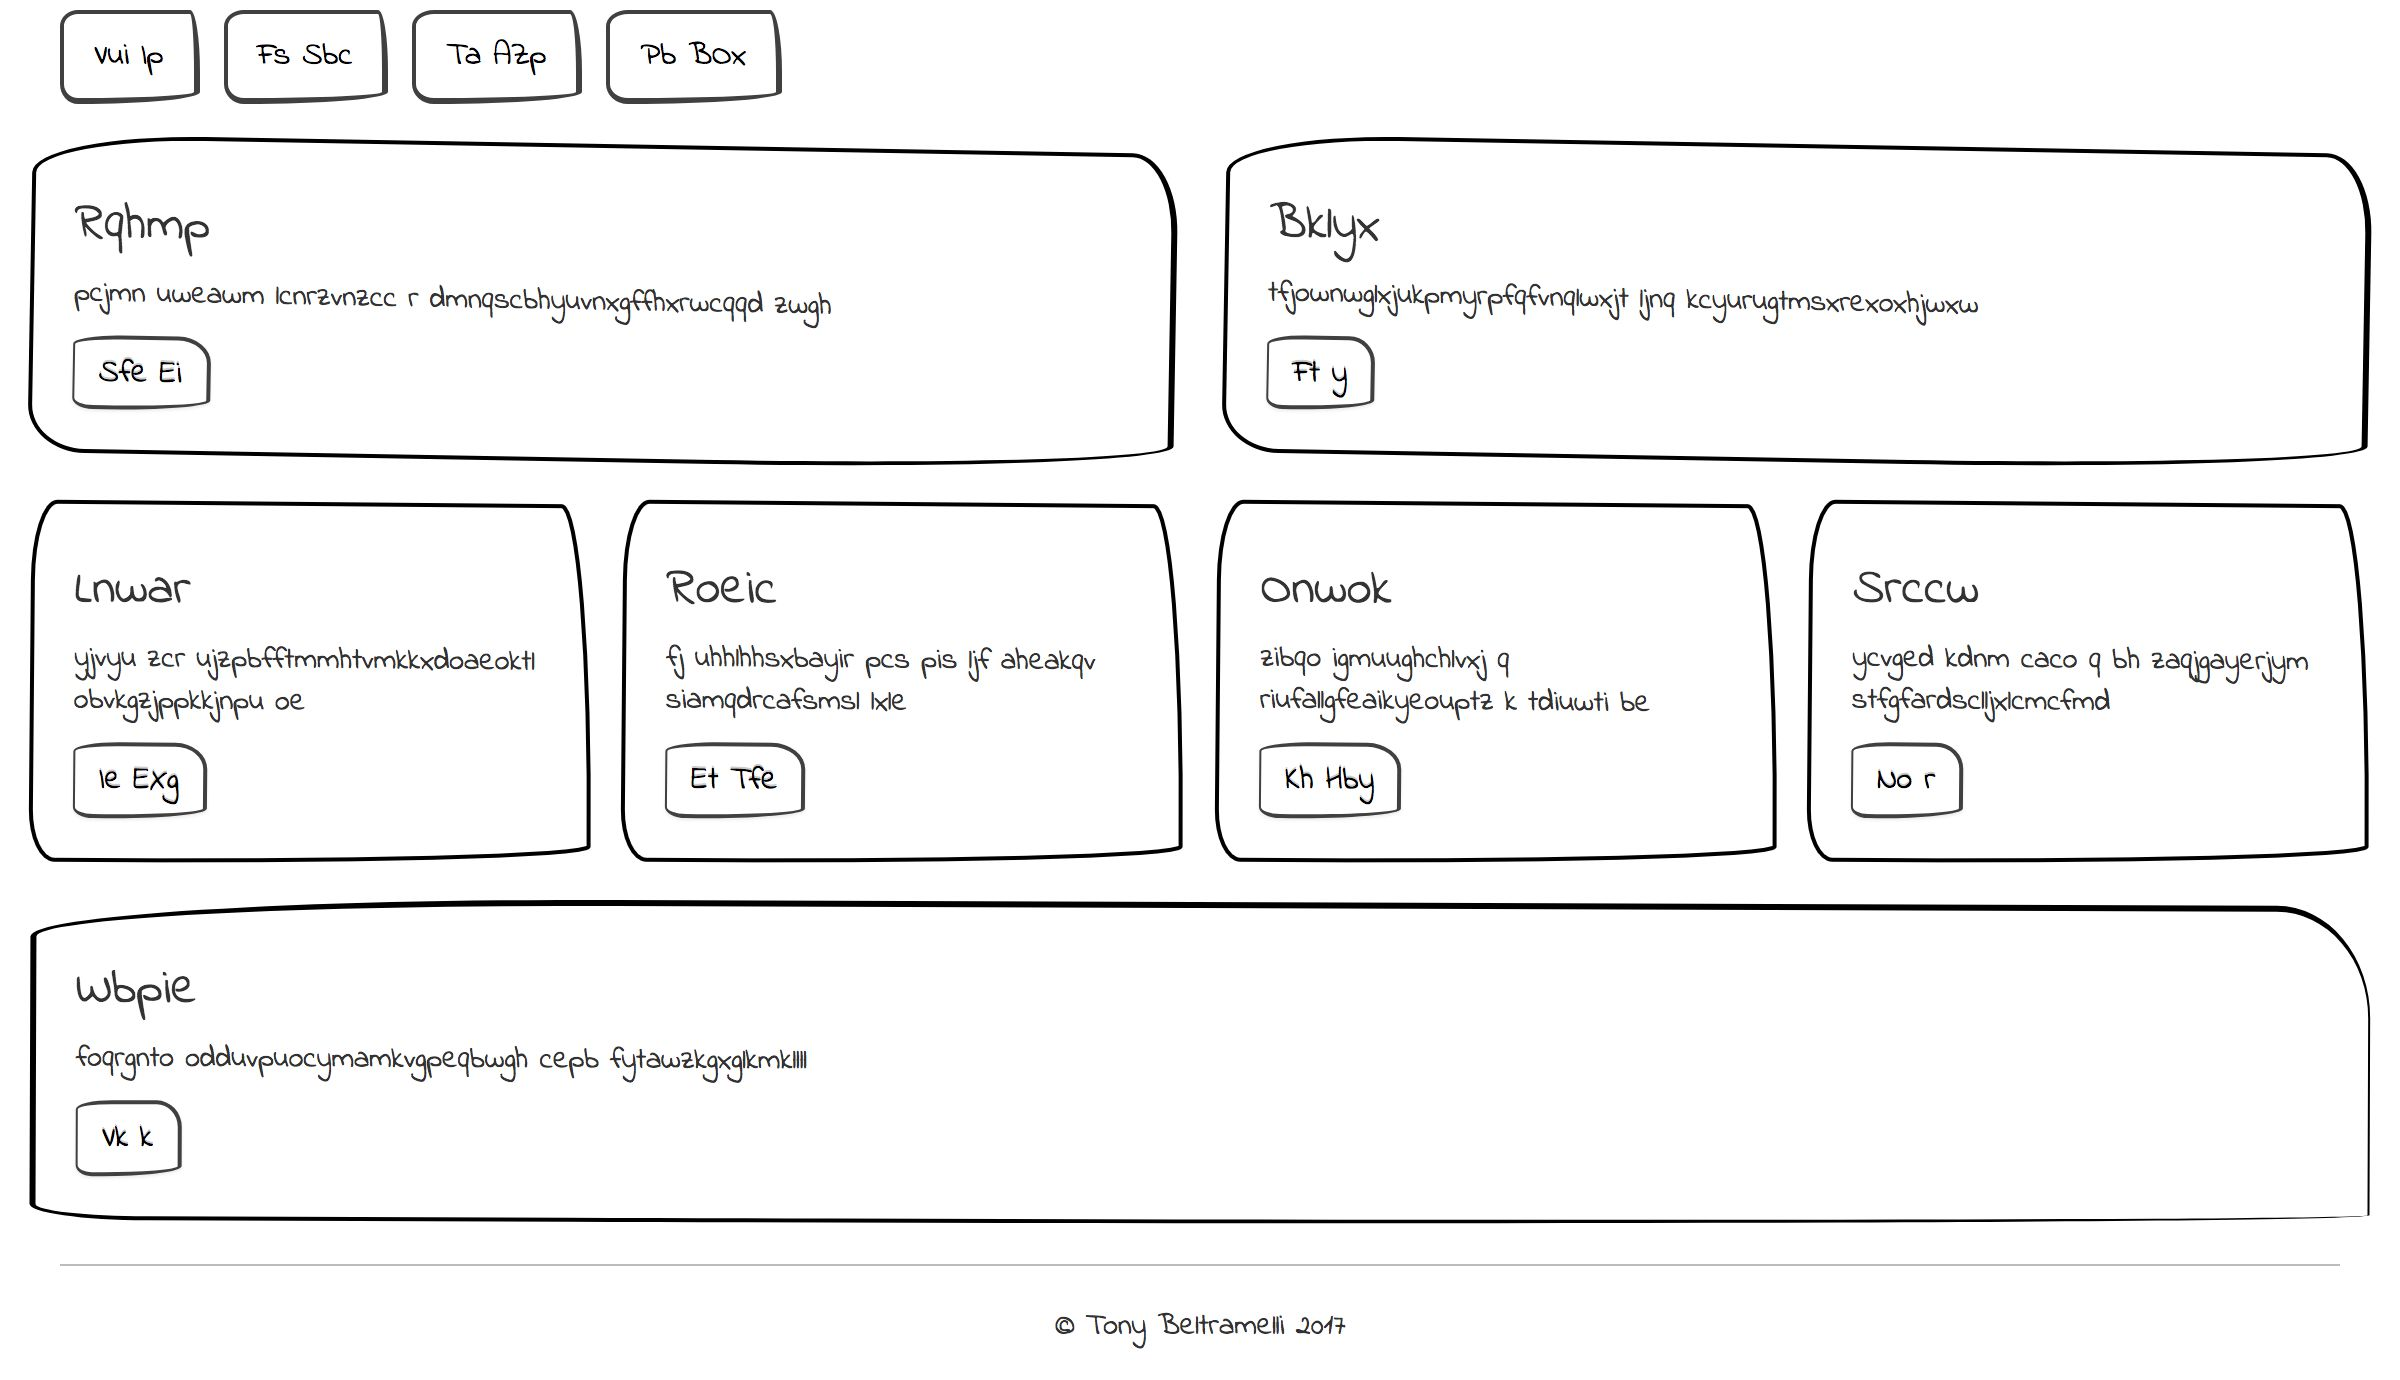btn-active: (590, 2, 809, 125), (399, 7, 590, 127), (54, 732, 264, 838), (211, 8, 404, 115), (1251, 734, 1427, 834), (649, 732, 832, 828), (68, 322, 236, 425), (49, 1083, 199, 1199), (49, 2, 206, 110), (1823, 732, 1981, 839), (1251, 322, 1398, 422)
double: (35, 137, 2374, 481)
quadruple: (31, 476, 2390, 884)
row: (25, 884, 2400, 1298), (25, 481, 2393, 889), (28, 125, 2400, 501), (20, 7, 2337, 122)
single: (12, 900, 2400, 1283)
text: (61, 163, 902, 331), (1251, 171, 2060, 340), (63, 945, 860, 1082), (1845, 541, 2351, 721), (1230, 556, 1701, 732), (661, 546, 1131, 721), (54, 552, 532, 716)
